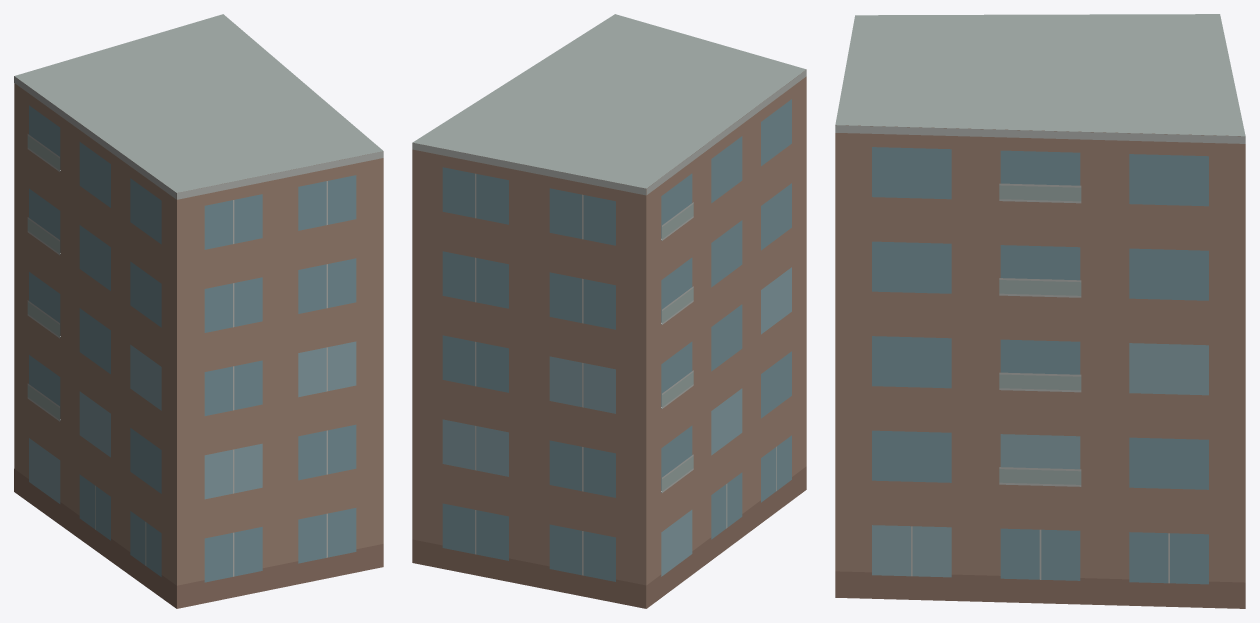
File: survey-upis-32876496.glb
The picture shows the model from 3 angles, left to right: view 1: azimuth 30°, elevation 25°; view 2: azimuth 150°, elevation 25°; view 3: azimuth 270°, elevation 25°; orthographic projection. The views are drawn at different scales.
Visible parts, largest first — view 1: survey-upis-32876496.tmp; view 2: survey-upis-32876496.tmp; view 3: survey-upis-32876496.tmp.
Part boxes in pixels (x1,y1,x2,y2): survey-upis-32876496.tmp: [14, 14, 383, 608]; survey-upis-32876496.tmp: [412, 14, 806, 608]; survey-upis-32876496.tmp: [835, 14, 1245, 608].
Bounding box in the file's own units: 8.3 × 14.9 × 11.74.
